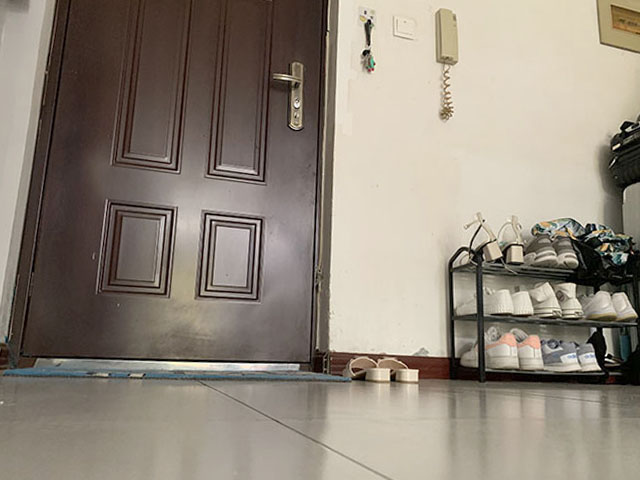carpet: (1, 365, 346, 384)
slippers: (340, 353, 420, 384)
